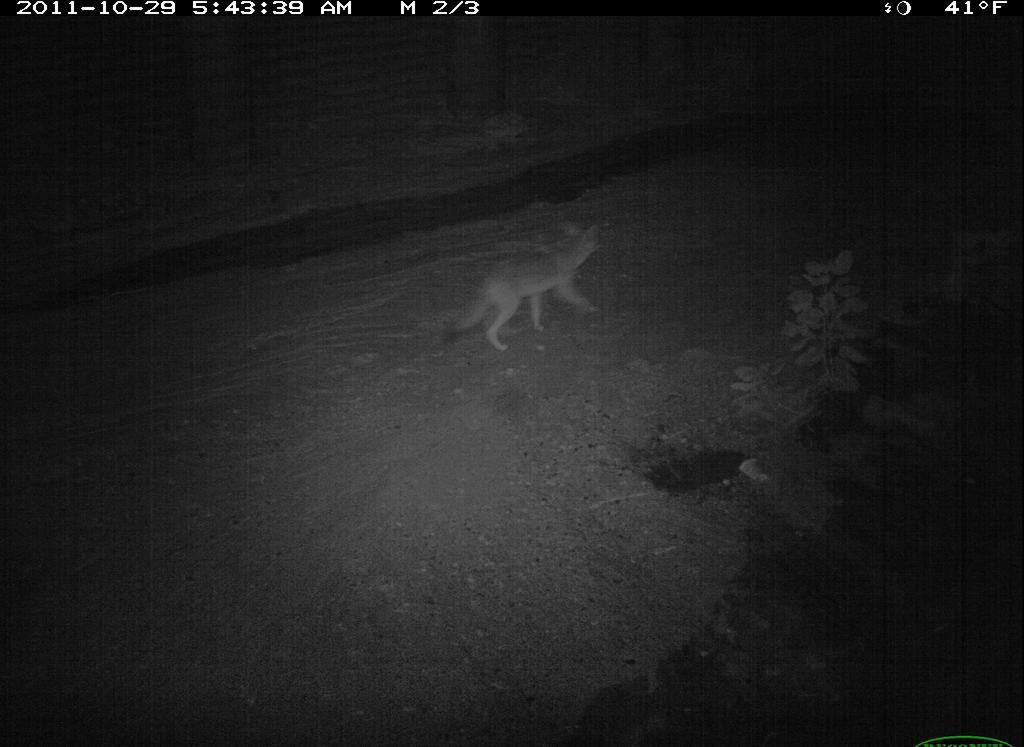coyote: (424, 214, 615, 356)
